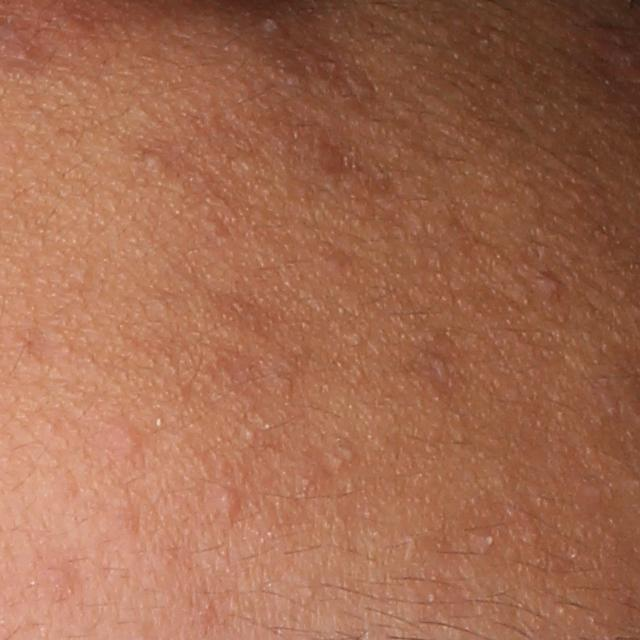comedo: (539, 270, 567, 304), (139, 150, 171, 173), (338, 443, 361, 462), (243, 426, 259, 445)
